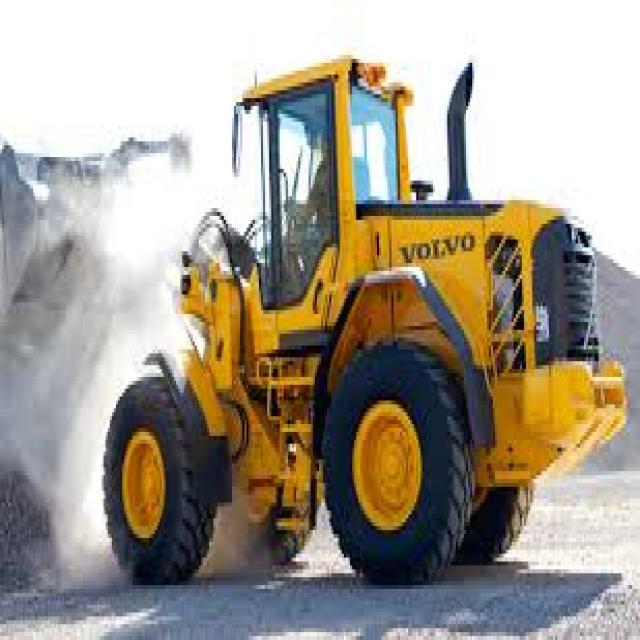buldozerpayloadergrader: (97, 45, 625, 589)
